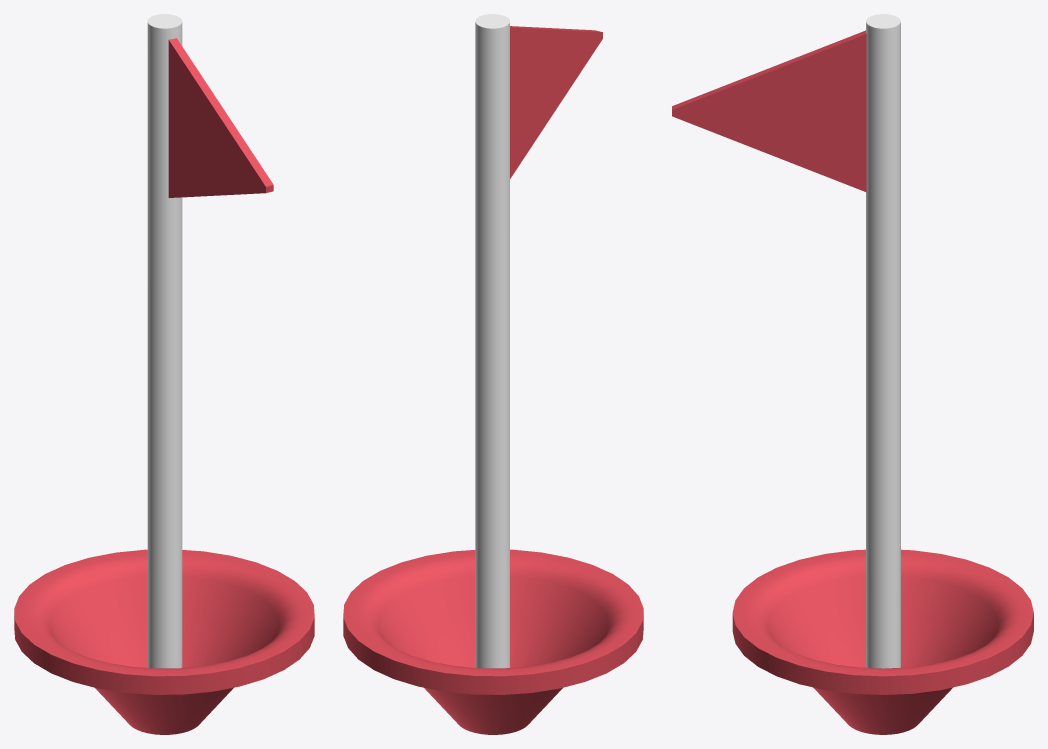
Rendered from Hole.fbx.
The picture shows the model from 3 angles, left to right: view 1: azimuth 30°, elevation 25°; view 2: azimuth 150°, elevation 25°; view 3: azimuth 270°, elevation 25°; orthographic projection.
Visible parts, largest first — view 1: Hole; view 2: Hole; view 3: Hole.
Part boxes in pixels (box(x1,y1,x2,y2)): Hole: box(14, 14, 314, 734); Hole: box(343, 14, 643, 734); Hole: box(672, 14, 1033, 734).
Size of the model in its own units: 26 by 66.46 by 31.22.
